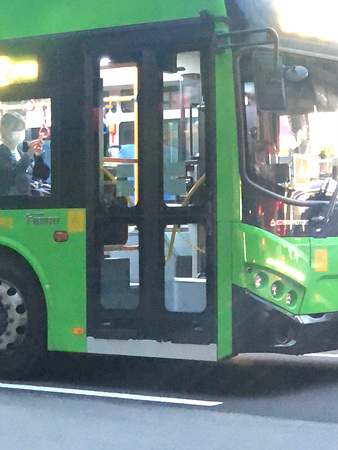entrance: (88, 37, 222, 342)
